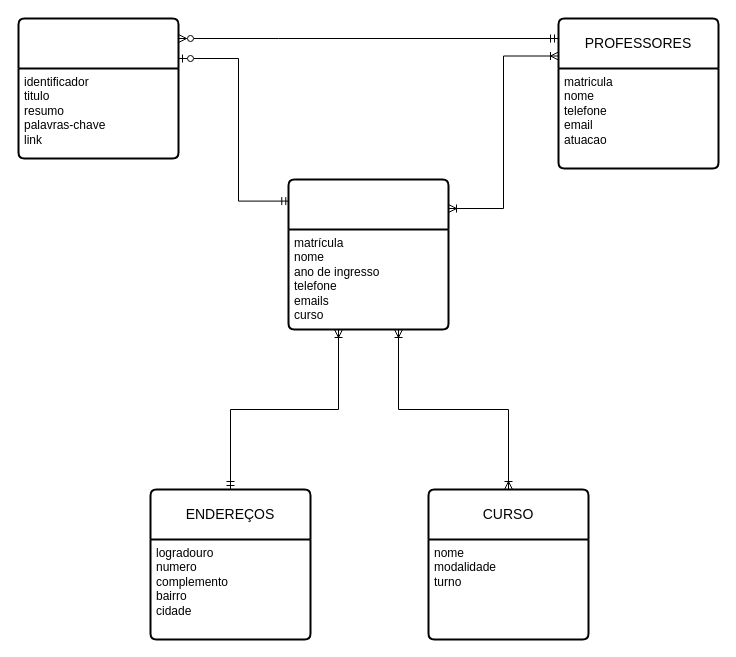
Image size: 736x657. Some labels were removed from this diagram. The box of each missing label's shape, as (x1, y1, x2, y2) in pixels:
ALUNOS: (287, 178, 449, 330)
TCCs: (17, 17, 179, 159)
